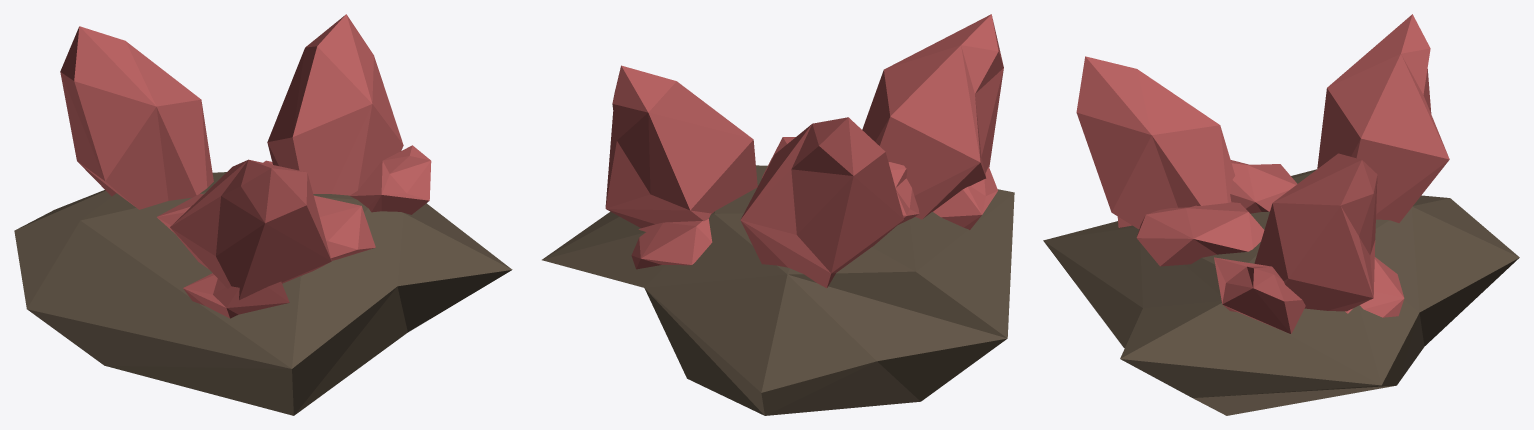
Rendered from SFHW_Rocks_005.fbx.
3 renders of one model, left to right at view 1: azimuth 30°, elevation 25°; view 2: azimuth 150°, elevation 25°; view 3: azimuth 270°, elevation 25°, orthographic. The views are drawn at different scales.
Visible parts, largest first — view 1: SFHW_Rocks_005; view 2: SFHW_Rocks_005; view 3: SFHW_Rocks_005.
Part boxes in pixels (x1,y1,x2,y2): SFHW_Rocks_005: (14,14,512,415); SFHW_Rocks_005: (542,14,1014,415); SFHW_Rocks_005: (1043,14,1519,415).
Bounding box in the file's own units: 15.7 × 11.02 × 15.87.
